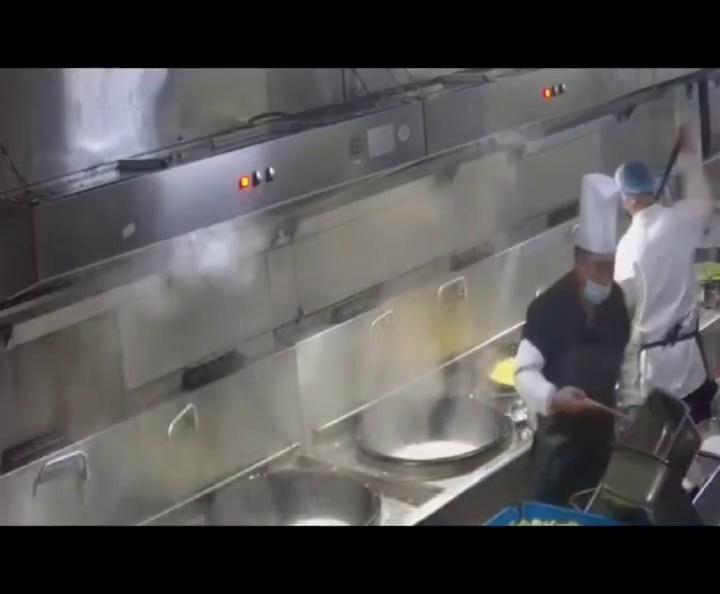mask: (580, 269, 614, 303)
